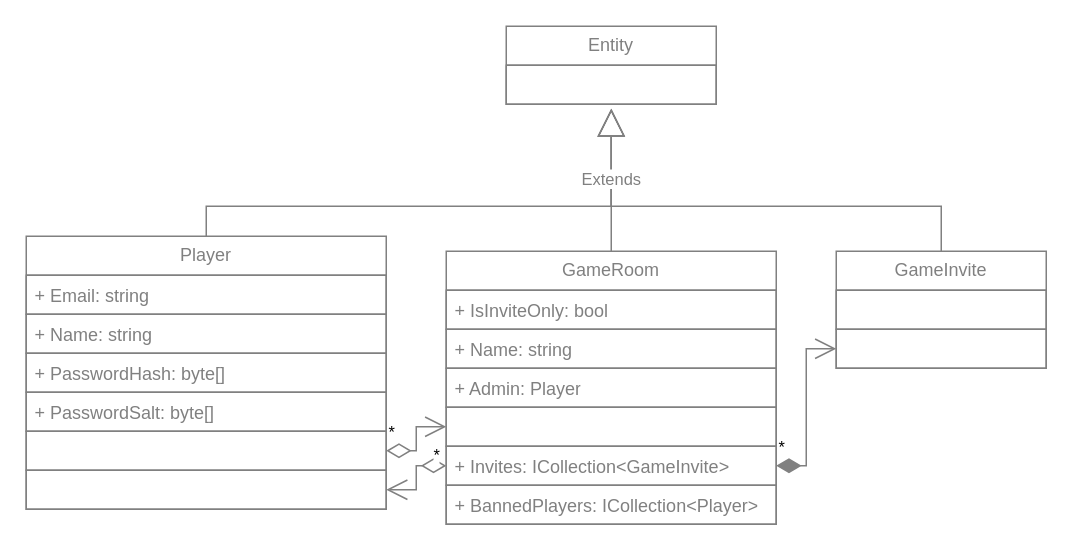
The diagram is 1073 pixels wide and 555 high, and some of its shapes have lost their labels. Each missing label, with the centre of its shape:
"+ CurrentRoom: GameRoom?" goes at (x=205, y=450).
"+ Id: int" goes at (x=610, y=84).
"+ PlayedRooms: ICollection<GameRoom>" goes at (x=205, y=489).
"+ Players: ICollection<Player>" goes at (x=610, y=426).
"+ Room: GameRoom" goes at (x=940, y=348).
"+ WasUsed: bool" goes at (x=940, y=309).
